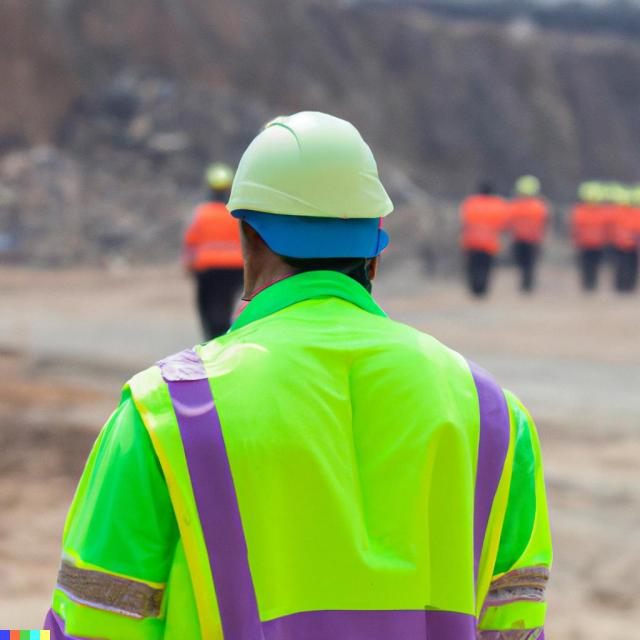Reflective-Jacket: (101, 286, 564, 634)
Safety-Helmet: (224, 105, 398, 236)
